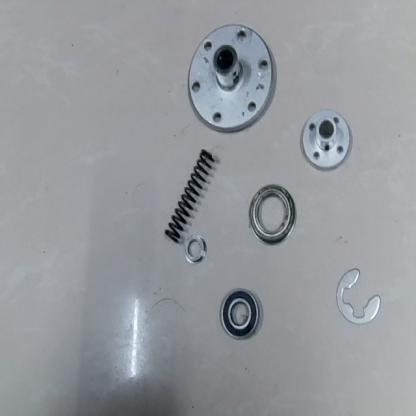FOD: (189, 17, 278, 134), (164, 147, 217, 246), (300, 105, 353, 171), (245, 183, 297, 246), (334, 268, 383, 328), (219, 289, 261, 342), (182, 234, 208, 265)
